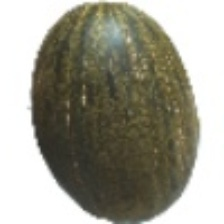honeydew: (43, 48, 224, 202)
